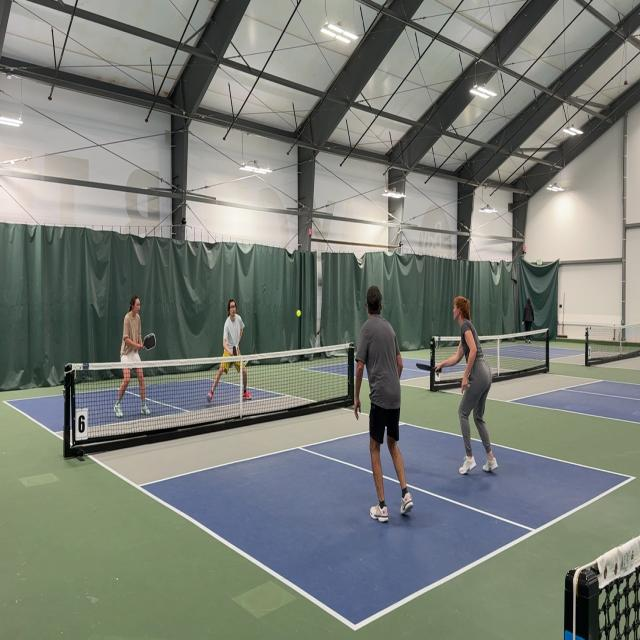ball: (296, 308, 302, 318)
